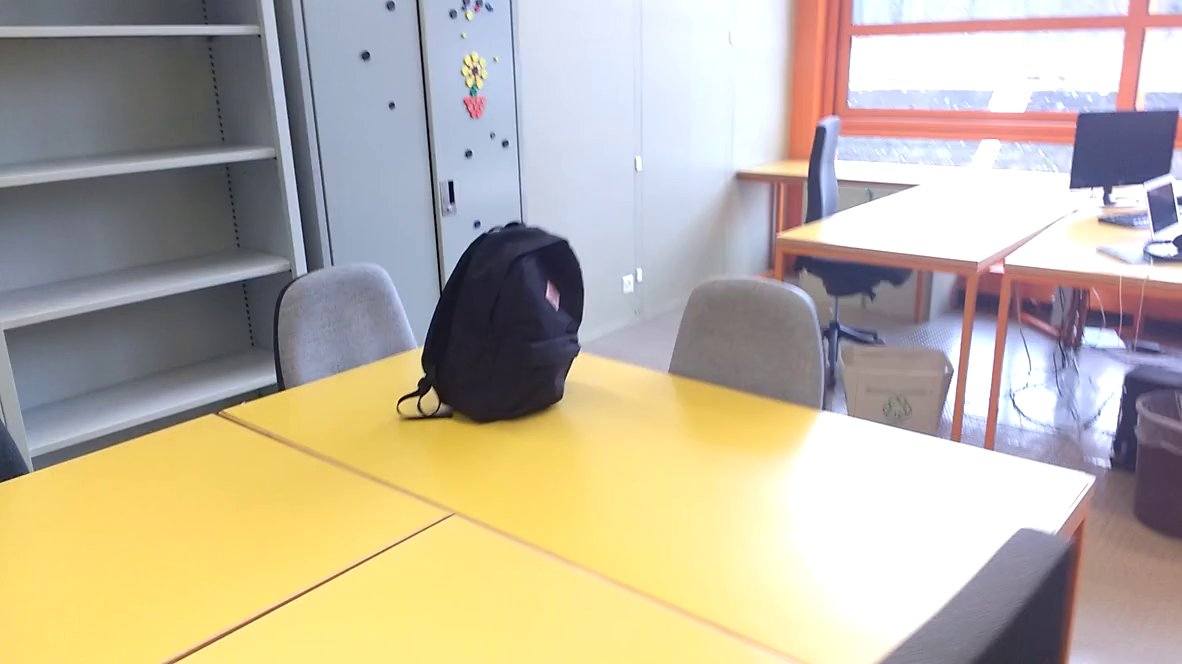bag: (393, 215, 587, 434)
box: (832, 334, 958, 444)
chair: (780, 111, 916, 395), (655, 265, 848, 435), (258, 246, 437, 412)
